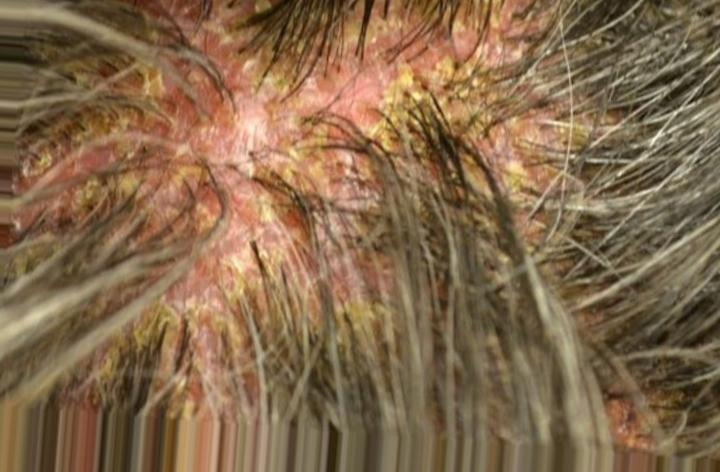Folliculitis: (85, 49, 418, 298)
